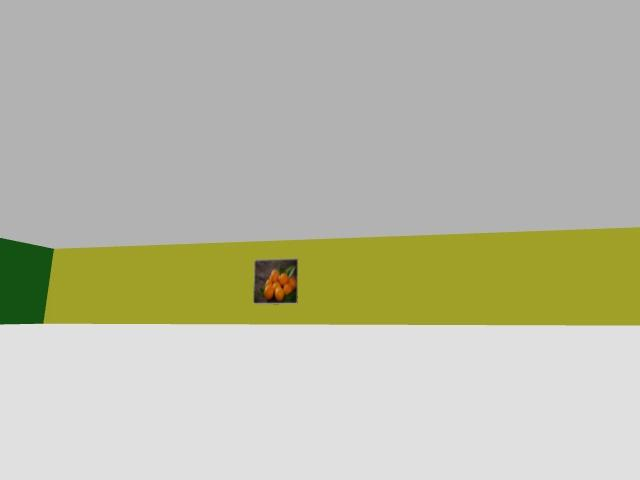orange: (264, 285, 273, 300), (271, 279, 281, 291), (279, 273, 288, 286), (275, 288, 284, 301), (288, 277, 296, 289), (270, 269, 278, 281), (284, 283, 292, 294), (265, 278, 271, 286)
